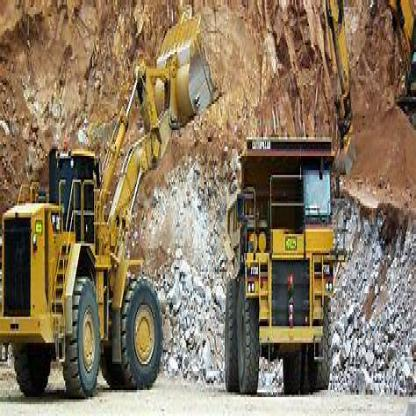bull_dozer/loader/grader: (6, 5, 215, 368)
dump_truck: (220, 108, 345, 414)
